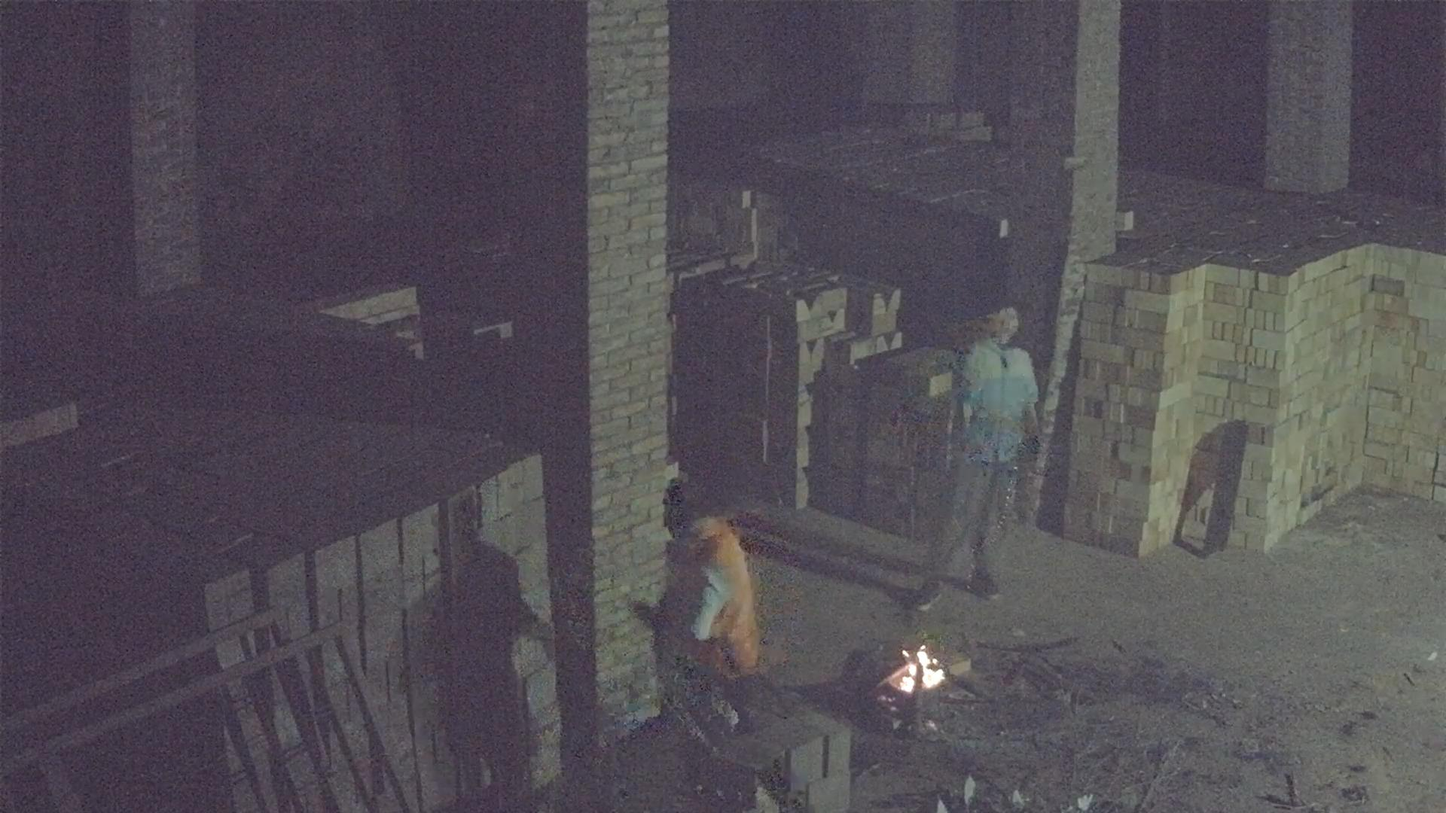fire: (882, 644, 946, 696)
